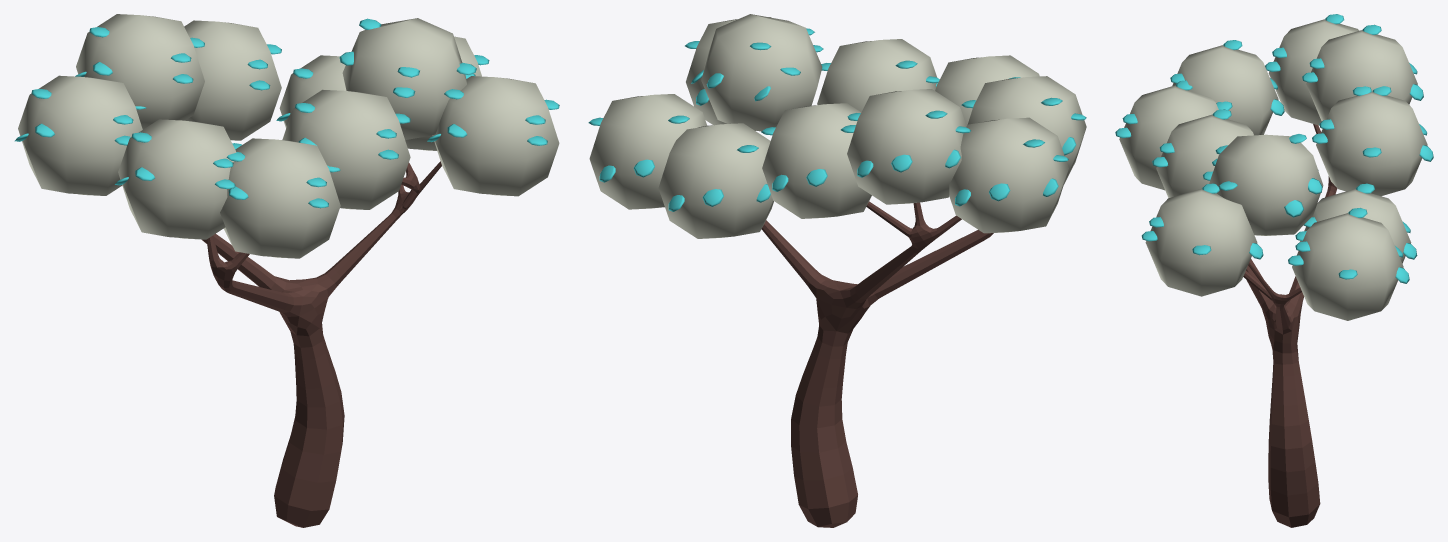
The model's file is Arbol-Invierno.fbx.
The picture shows the model from 3 angles, left to right: view 1: azimuth 30°, elevation 25°; view 2: azimuth 150°, elevation 25°; view 3: azimuth 270°, elevation 25°; orthographic projection. The views are drawn at different scales.
Parts seen in each view (by area): view 1: Plane.003, Cube.039, Cube.034, Cube.033, Cube.035, Cube.040, Cube.036, Cube.031, Cube.032, Cube.037, Cube.038; view 2: Plane.003, Cube.031, Cube.033, Cube.036, Cube.037, Cube.032, Cube.038, Cube.040, Cube.035, Cube.034, Cube.039; view 3: Plane.003, Cube.038, Cube.039, Cube.032, Cube.036, Cube.031, Cube.035, Cube.034, Cube.040, Cube.033, Cube.037.
Boxes of the visible parts, x1=… form: Plane.003: x1=201, y1=161, x2=441, y2=527; Cube.039: x1=427, y1=76, x2=559, y2=196; Cube.034: x1=220, y1=138, x2=340, y2=258; Cube.033: x1=14, y1=75, x2=146, y2=195; Cube.035: x1=115, y1=119, x2=241, y2=239; Cube.040: x1=282, y1=89, x2=410, y2=209; Cube.036: x1=339, y1=18, x2=476, y2=139; Cube.031: x1=75, y1=14, x2=204, y2=129; Cube.032: x1=184, y1=20, x2=281, y2=140; Cube.037: x1=276, y1=55, x2=346, y2=128; Cube.038: x1=405, y1=36, x2=489, y2=150; Plane.003: x1=761, y1=201, x2=993, y2=527; Cube.031: x1=847, y1=89, x2=970, y2=204; Cube.033: x1=949, y1=117, x2=1068, y2=233; Cube.036: x1=691, y1=14, x2=823, y2=131; Cube.037: x1=658, y1=123, x2=773, y2=238; Cube.032: x1=761, y1=103, x2=871, y2=218; Cube.038: x1=588, y1=94, x2=706, y2=209; Cube.040: x1=817, y1=39, x2=939, y2=112; Cube.035: x1=961, y1=76, x2=1086, y2=184; Cube.034: x1=935, y1=55, x2=1039, y2=125; Cube.039: x1=685, y1=17, x2=770, y2=130; Plane.003: x1=1243, y1=124, x2=1337, y2=527; Cube.038: x1=1288, y1=208, x2=1409, y2=320; Cube.039: x1=1141, y1=183, x2=1263, y2=296; Cube.032: x1=1312, y1=86, x2=1433, y2=196; Cube.036: x1=1209, y1=134, x2=1323, y2=235; Cube.031: x1=1302, y1=24, x2=1423, y2=120; Cube.035: x1=1170, y1=40, x2=1284, y2=135; Cube.034: x1=1115, y1=80, x2=1218, y2=190; Cube.040: x1=1152, y1=109, x2=1253, y2=198; Cube.033: x1=1265, y1=14, x2=1359, y2=125; Cube.037: x1=1295, y1=183, x2=1417, y2=263.
Size of the model in its own units: 713 by 728 by 478.
